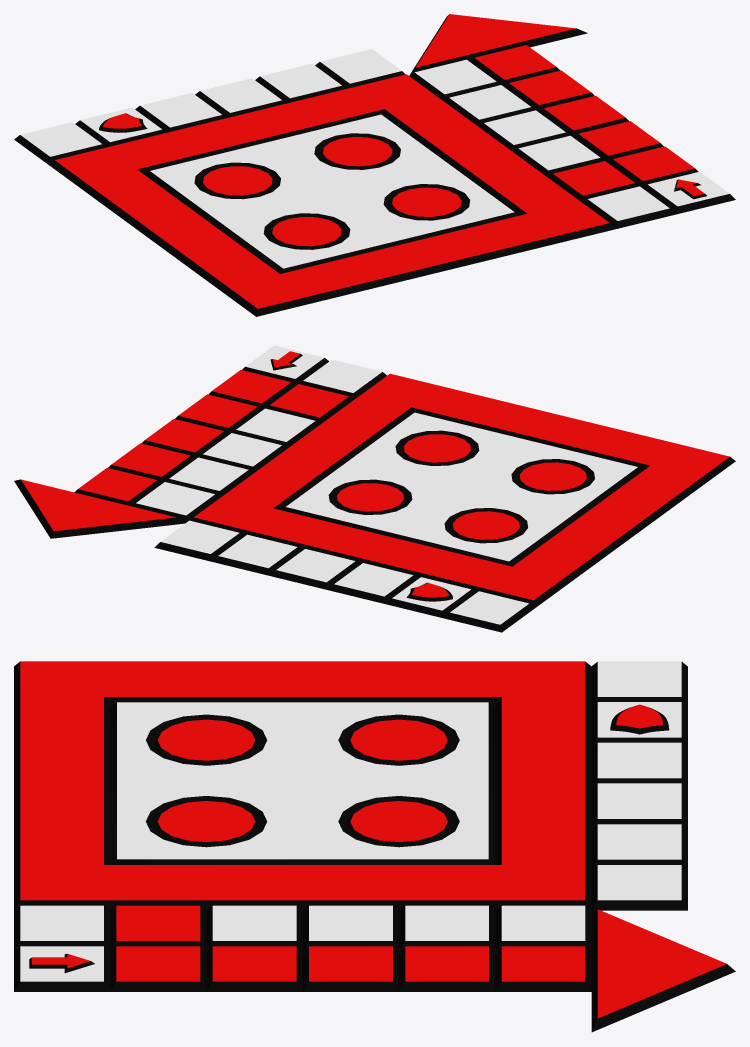
Rendered from tablero_procedural.obj.
3 views of the same model, one above another, from view 1: azimuth 30°, elevation 25°; view 2: azimuth 150°, elevation 25°; view 3: azimuth 270°, elevation 25° (orthographic). The views are drawn at different scales.
Visible parts, largest first — view 1: Tablero; view 2: Tablero; view 3: Tablero.
Part boxes in pixels (box(x1,y1,x2,y2)): Tablero: box(14, 14, 735, 316); Tablero: box(14, 345, 735, 632); Tablero: box(14, 661, 735, 1032).
Size of the model in its own units: 2.27 by 0.0309 by 1.89.
